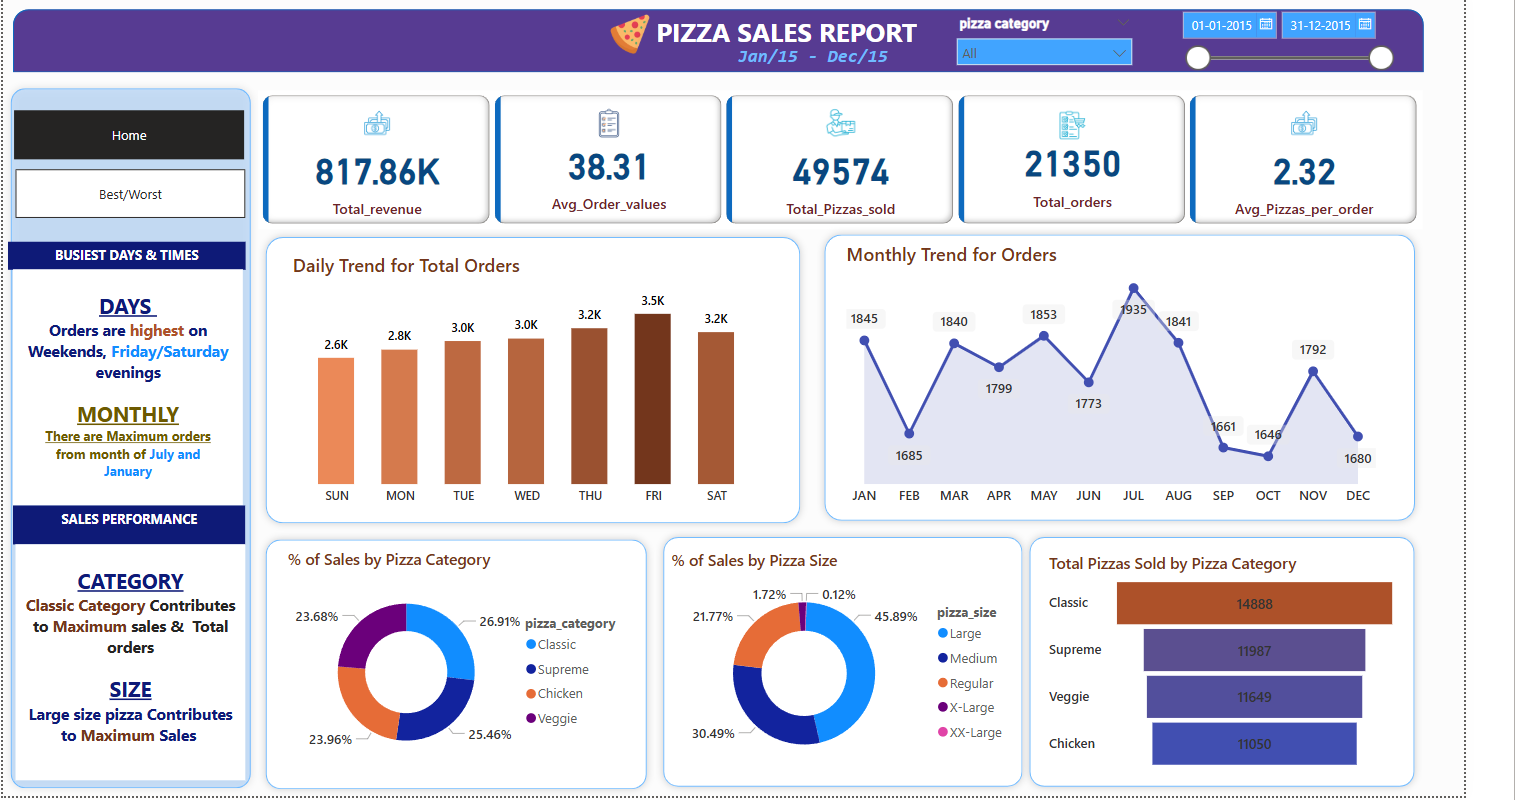

What the dashboard file says about the page in this screenshot:
{"tool":"powerbi","page":{"name":"Home","canvas":[1500,820],"ordinal":0},"visuals":[{"type":"cardVisual","fields":{"Data":["pizza_sales.Total_revenue","pizza_sales.Avg_Order_values","pizza_sales.Total_Pizzas_sold","pizza_sales.Total_orders","pizza_sales.Avg_Pizzas_per_order"]},"box":[262.5,95,1196.2,142.5],"z":0},{"type":"shape","box":[10,11.2,1448.8,65],"z":1000},{"type":"textbox","box":[655,11.2,300,47.5],"z":2000},{"type":"textbox","box":[750,43.8,192.5,32.5],"z":3000},{"type":"image","box":[617.5,11.2,52.5,51.2],"z":4000},{"type":"shape","box":[262.5,237.5,565,310],"z":5000},{"type":"columnChart","title":"Daily Trend for Total Orders","fields":{"Category":["pizza_sales.Order_day"],"Y":["pizza_sales.Total_orders"]},"box":[292.5,262.5,491.2,267.5],"z":6000},{"type":"shape","box":[836.2,235,622.5,310],"z":7000},{"type":"shape","box":[0,85,262.5,735],"z":8000},{"type":"areaChart","title":"Monthly Trend for Orders","fields":{"Y":["pizza_sales.Total_orders"],"Category":["pizza_sales.Order_Month"]},"box":[861.2,250,553.8,280],"z":9000},{"type":"shape","box":[262.5,547.5,407.5,272.5],"z":10000},{"type":"shape","box":[670,545,385,272.5],"z":11000},{"type":"shape","box":[1046.2,545,411.2,272.5],"z":12000},{"type":"textbox","box":[5,250,243.8,28.8],"z":13000},{"type":"donutChart","title":"% of Sales by Pizza Category","fields":{"Category":["pizza_sales.pizza_category"],"Y":["pizza_sales.Total_revenue"]},"box":[287.5,565,362.5,233.8],"z":14000},{"type":"donutChart","title":"% of Sales by Pizza Size","fields":{"Y":["pizza_sales.Total_revenue"],"Category":["pizza_sales.pizza_size"]},"box":[681.2,566.2,362.5,233.8],"z":15000},{"type":"funnel","title":"Total Pizzas Sold by Pizza Category","fields":{"Category":["pizza_sales.pizza_category"],"Y":["pizza_sales.Total_Pizzas_sold"]},"box":[1068.8,568.8,367.5,228.8],"z":16000},{"type":"textbox","box":[10,278.8,236.2,242.5],"z":17000},{"type":"textbox","box":[10,521.2,238.8,40],"z":18000},{"type":"textbox","box":[12.5,561.2,236.2,242.5],"z":19000},{"type":"slicer","fields":{"Values":["pizza_sales.pizza_category"]},"box":[968.8,12.5,200,63.8],"z":20000},{"type":"slicer","fields":{"Values":["pizza_sales.order_date"]},"box":[1198.8,3.8,237.5,82.5],"z":21000},{"type":"pageNavigator","box":[11.1,115.6,236.8,50.1],"z":22000},{"type":"pageNavigator","box":[12.5,175.5,236.8,50.1],"z":23000}]}

Visuals, with their boxes on the page's 1500x820 design canvas (x1, y1, x2, y2). These are canvas units, not pixel positions in the 1518x800 screenshot, which may show the page scaled, cropped or inside an application window:
cardVisual - pizza_sales.Total_revenue x pizza_sales.Avg_Order_values: BBox(262, 95, 1459, 238)
shape: BBox(10, 11, 1459, 76)
textbox: BBox(655, 11, 955, 59)
textbox: BBox(750, 44, 942, 76)
image: BBox(618, 11, 670, 62)
shape: BBox(262, 238, 828, 548)
"Daily Trend for Total Orders" columnChart: BBox(292, 262, 784, 530)
shape: BBox(836, 235, 1459, 545)
shape: BBox(0, 85, 262, 820)
"Monthly Trend for Orders" areaChart: BBox(861, 250, 1415, 530)
shape: BBox(262, 548, 670, 820)
shape: BBox(670, 545, 1055, 818)
shape: BBox(1046, 545, 1457, 818)
textbox: BBox(5, 250, 249, 279)
"% of Sales by Pizza Category" donutChart: BBox(288, 565, 650, 799)
"% of Sales by Pizza Size" donutChart: BBox(681, 566, 1044, 800)
"Total Pizzas Sold by Pizza Category" funnel: BBox(1069, 569, 1436, 798)
textbox: BBox(10, 279, 246, 521)
textbox: BBox(10, 521, 249, 561)
textbox: BBox(12, 561, 249, 804)
slicer - pizza_sales.pizza_category: BBox(969, 12, 1169, 76)
slicer - pizza_sales.order_date: BBox(1199, 4, 1436, 86)
pageNavigator: BBox(11, 116, 248, 166)
pageNavigator: BBox(12, 176, 249, 226)
